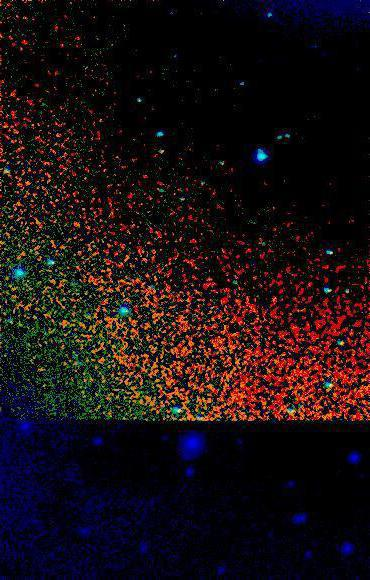star: (261, 285, 291, 315)
